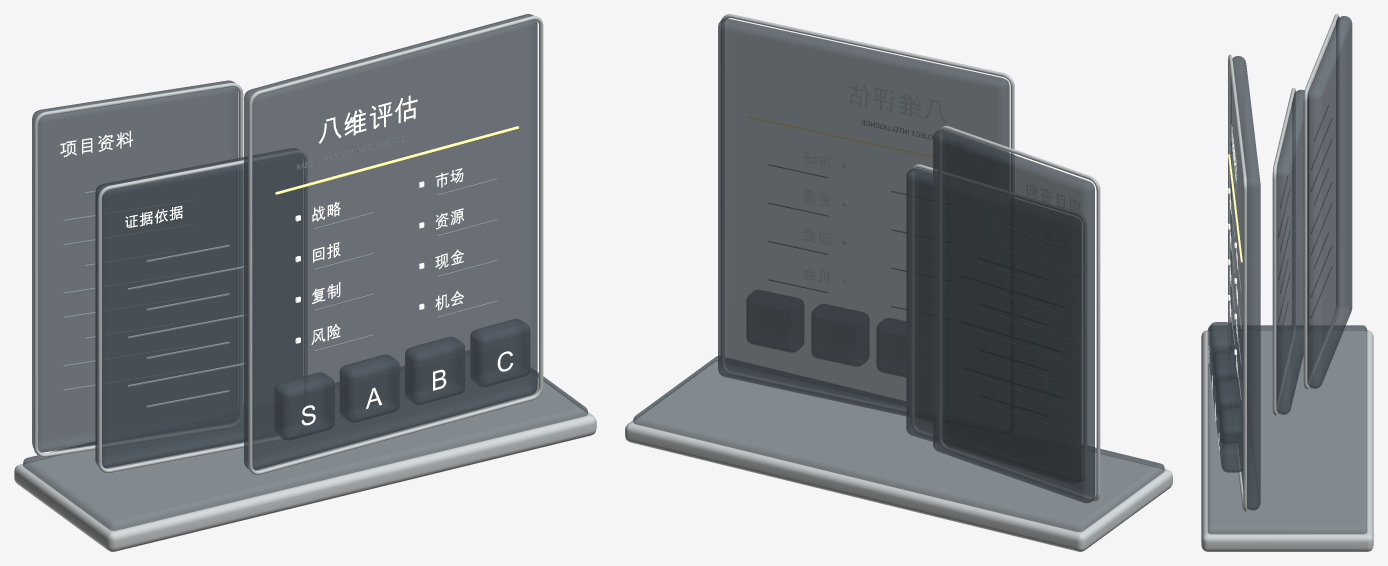
Rendered from sabc-dossier.glb.
3 renders of one model, left to right at view 1: azimuth 30°, elevation 25°; view 2: azimuth 150°, elevation 25°; view 3: azimuth 270°, elevation 25°, orthographic. The views are drawn at different scales.
Parts seen in each view (by area): view 1: Eight dimension assessment glass, Project dossier glass, Evidence dossier glass, Platinum plinth, Floating glass plinth, Eight dimension assessment rim, Project dossier rim, Evidence dossier rim, Grade C, Grade A, Grade S, Grade B (+2 smaller); view 2: Eight dimension assessment glass, Project dossier glass, Evidence dossier glass, Platinum plinth, Floating glass plinth, Project dossier rim, Eight dimension assessment rim, Grade B, Grade C, Evidence dossier rim, Grade A, 八维评估; view 3: Platinum plinth, Floating glass plinth, Project dossier glass, Eight dimension assessment glass, Evidence dossier glass, Project dossier rim, Eight dimension assessment rim, Evidence dossier rim, Grade C, Grade B, Grade A, Grade S (+1 smaller).
Part boxes in pixels (left/top/right/bottom): Eight dimension assessment glass: left=244, top=14, right=537, bottom=470; Project dossier glass: left=32, top=80, right=238, bottom=452; Evidence dossier glass: left=95, top=148, right=302, bottom=468; Platinum plinth: left=14, top=376, right=596, bottom=551; Floating glass plinth: left=23, top=350, right=587, bottom=530; Eight dimension assessment rim: left=248, top=16, right=543, bottom=474; Project dossier rim: left=33, top=83, right=243, bottom=457; Evidence dossier rim: left=97, top=150, right=307, bottom=473; Grade C: left=470, top=318, right=530, bottom=387; Grade A: left=339, top=354, right=399, bottom=422; Grade S: left=274, top=372, right=334, bottom=440; Grade B: left=405, top=336, right=464, bottom=404; Eight dimension assessment glass: left=718, top=18, right=1009, bottom=421; Project dossier glass: left=933, top=130, right=1094, bottom=503; Evidence dossier glass: left=906, top=168, right=1080, bottom=483; Platinum plinth: left=625, top=360, right=1172, bottom=551; Floating glass plinth: left=633, top=356, right=1164, bottom=531; Project dossier rim: left=938, top=125, right=1100, bottom=501; Eight dimension assessment rim: left=721, top=14, right=1014, bottom=412; Grade B: left=812, top=304, right=868, bottom=365; Grade C: left=747, top=290, right=803, bottom=351; Evidence dossier rim: left=911, top=164, right=1086, bottom=482; Grade A: left=877, top=318, right=905, bottom=376; 八维评估: left=848, top=82, right=946, bottom=123; Platinum plinth: left=1201, top=330, right=1373, bottom=551; Floating glass plinth: left=1207, top=325, right=1367, bottom=534; Project dossier glass: left=1307, top=16, right=1352, bottom=388; Eight dimension assessment glass: left=1230, top=56, right=1260, bottom=510; Evidence dossier glass: left=1276, top=89, right=1308, bottom=414; Project dossier rim: left=1303, top=14, right=1339, bottom=389; Eight dimension assessment rim: left=1228, top=54, right=1246, bottom=511; Evidence dossier rim: left=1272, top=88, right=1295, bottom=415; Grade C: left=1219, top=408, right=1243, bottom=472; Grade B: left=1216, top=379, right=1240, bottom=443; Grade A: left=1212, top=350, right=1237, bottom=413; Grade S: left=1209, top=322, right=1234, bottom=385.
Size of the model in its own units: 4.65 by 3.74 by 1.62.
